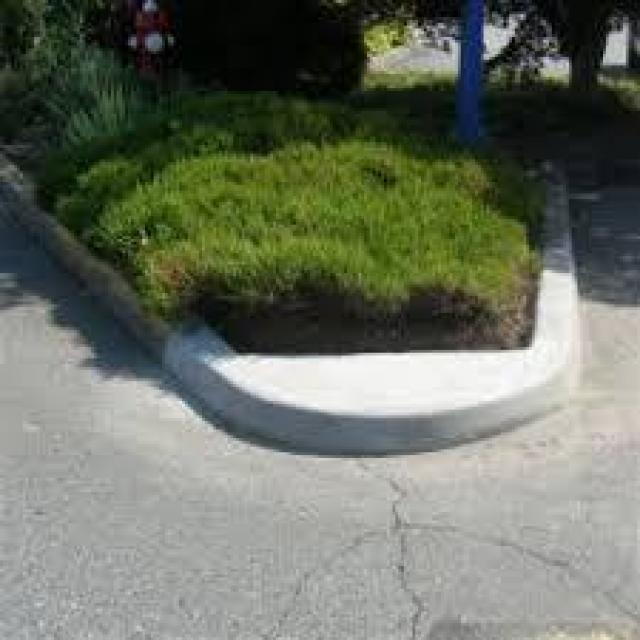curb: (186, 338, 591, 467), (1, 152, 183, 396), (544, 164, 588, 334)
